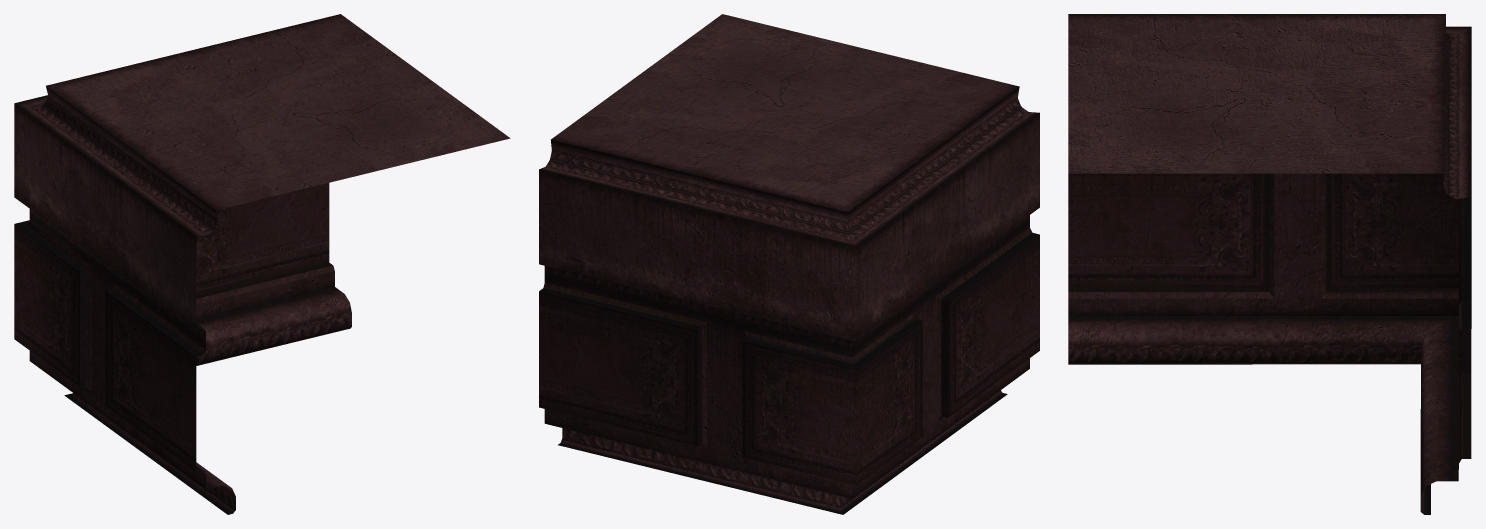
The model's file is 42_corner_concave02_short.dae.
The picture shows the model from 3 angles, left to right: view 1: azimuth 30°, elevation 25°; view 2: azimuth 150°, elevation 25°; view 3: azimuth 270°, elevation 25°; orthographic projection. The views are drawn at different scales.
Visible parts, largest first — view 1: corner_concave_short; view 2: corner_concave_short; view 3: corner_concave_short.
Part boxes in pixels (left/top/right/bottom): corner_concave_short: left=14, top=14, right=510, bottom=514; corner_concave_short: left=539, top=14, right=1039, bottom=514; corner_concave_short: left=1068, top=14, right=1471, bottom=514.
Size of the model in its own units: 2 by 1.87 by 2.
Materials: 1 (1 with a texture image).
